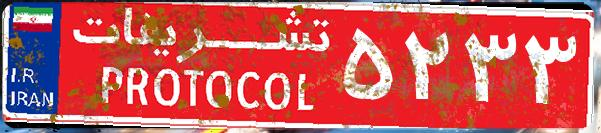2: (400, 20, 460, 115)
3: (460, 20, 520, 115), (520, 20, 580, 115)
5: (340, 20, 400, 115)
تشریفات: (60, 8, 340, 125)
